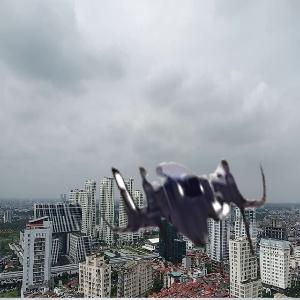drone: (94, 111, 277, 294)
